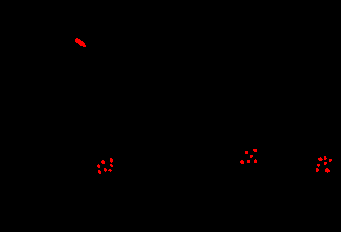Target: (75, 38, 86, 47), (325, 168, 330, 173), (318, 157, 323, 161), (101, 160, 105, 164), (240, 160, 244, 164), (110, 158, 113, 163), (253, 149, 257, 152), (324, 156, 327, 160), (254, 159, 257, 163), (97, 164, 100, 168), (104, 168, 107, 172), (316, 168, 319, 172), (108, 169, 112, 172), (98, 170, 101, 174), (245, 151, 248, 154), (250, 155, 253, 158), (329, 159, 332, 162), (247, 160, 250, 163), (324, 162, 327, 165), (110, 164, 113, 167), (317, 164, 320, 167)
